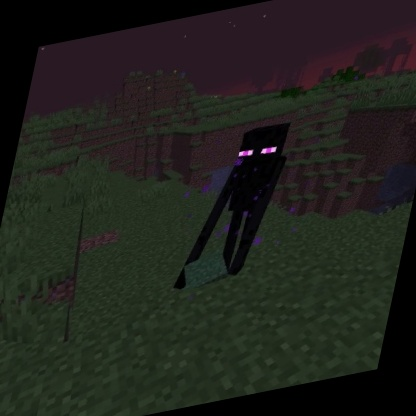enderman: (169, 118, 296, 295)
